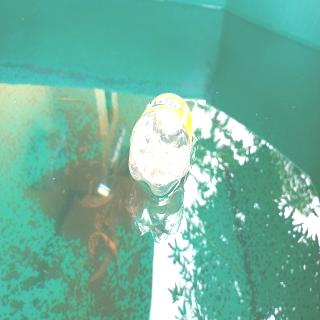bottle: (128, 91, 194, 197)
